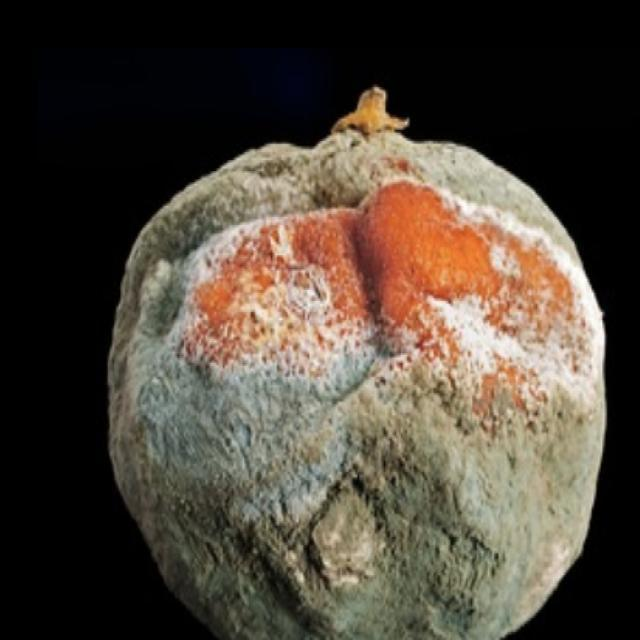sangat-busuk: (109, 88, 605, 639)
